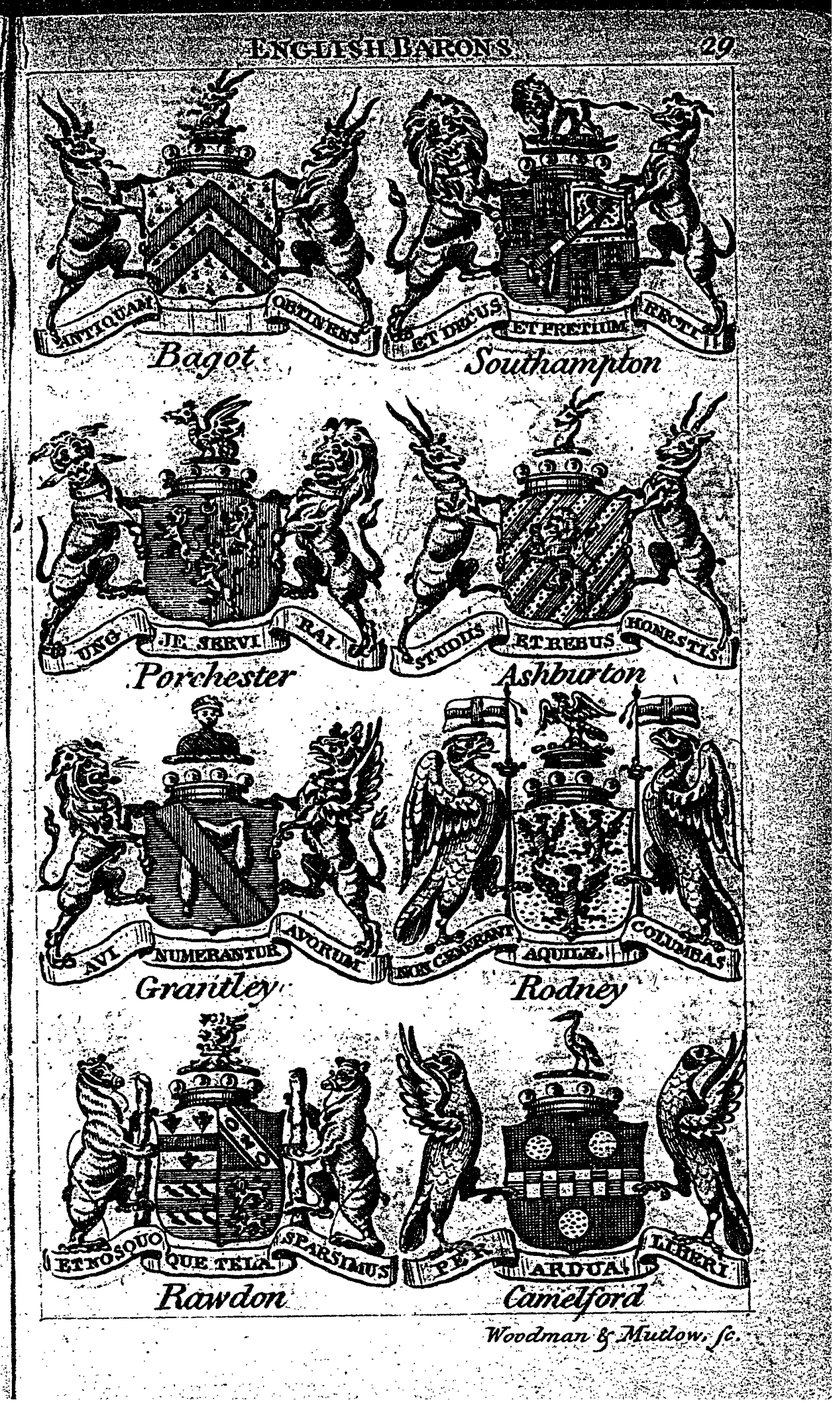coat_of_arms: (388, 998, 761, 1316), (39, 1005, 396, 1315), (35, 379, 387, 693), (386, 380, 739, 690), (37, 698, 381, 1005), (378, 83, 730, 377), (33, 83, 380, 379), (392, 703, 735, 1002)
